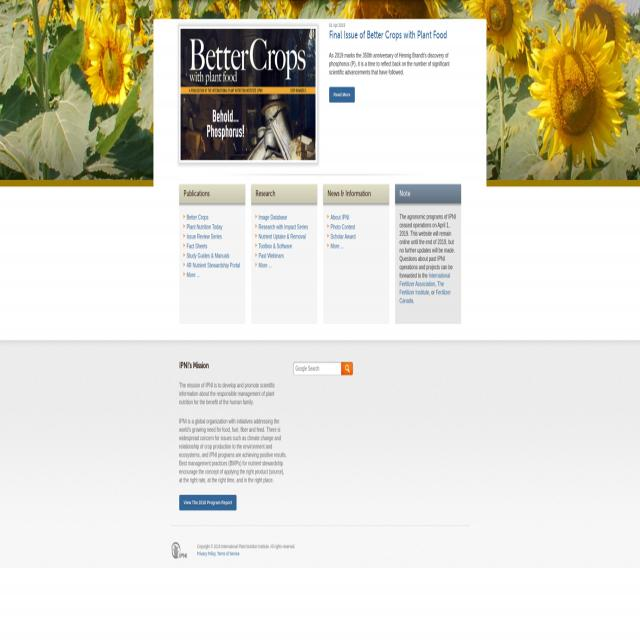button: (179, 26, 317, 162), (179, 494, 237, 510), (168, 537, 192, 565), (329, 86, 355, 102), (341, 362, 353, 375)
field: (293, 363, 341, 375)
